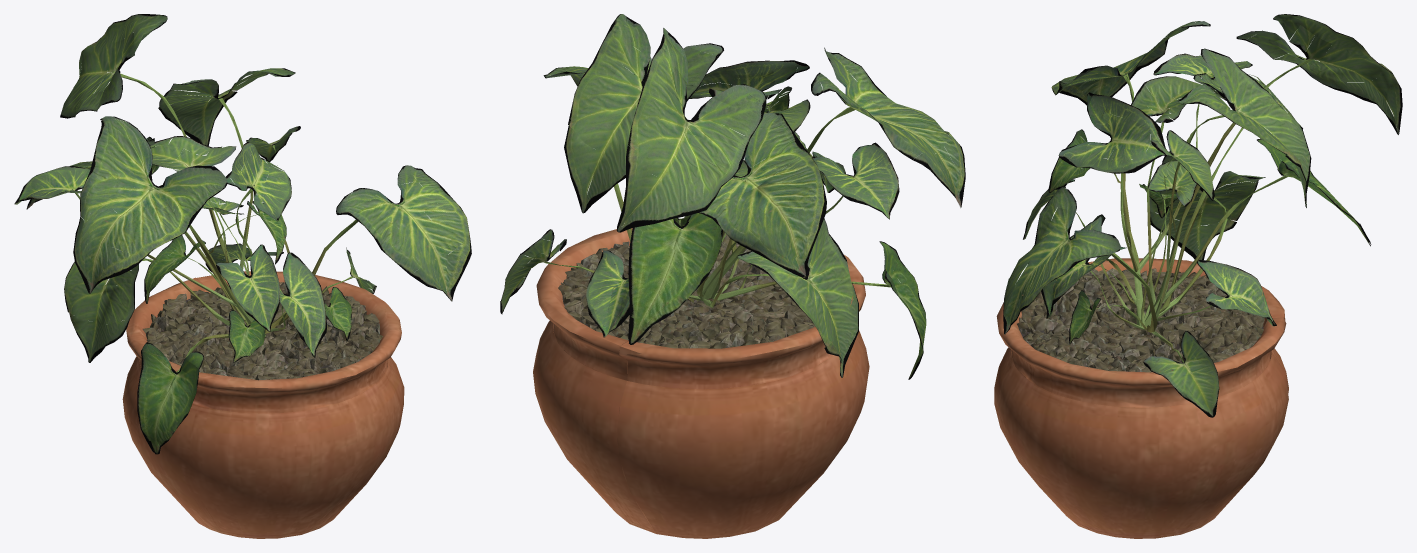
File: bigplant.glb
3 views of the same model, side by side, from view 1: azimuth 30°, elevation 25°; view 2: azimuth 150°, elevation 25°; view 3: azimuth 270°, elevation 25° (orthographic). The views are drawn at different scales.
Visible parts, largest first — view 1: potted_plant_02_pot; view 2: potted_plant_02_pot; view 3: potted_plant_02_pot.
Boxes of the visible parts, x1,y1,x2,y2 form: potted_plant_02_pot: (14, 14, 471, 538); potted_plant_02_pot: (500, 14, 965, 538); potted_plant_02_pot: (994, 14, 1402, 538).
Bounding box in the file's own units: 0.7008 × 0.8416 × 0.6564.
Materials: 2 (2 with a texture image).
